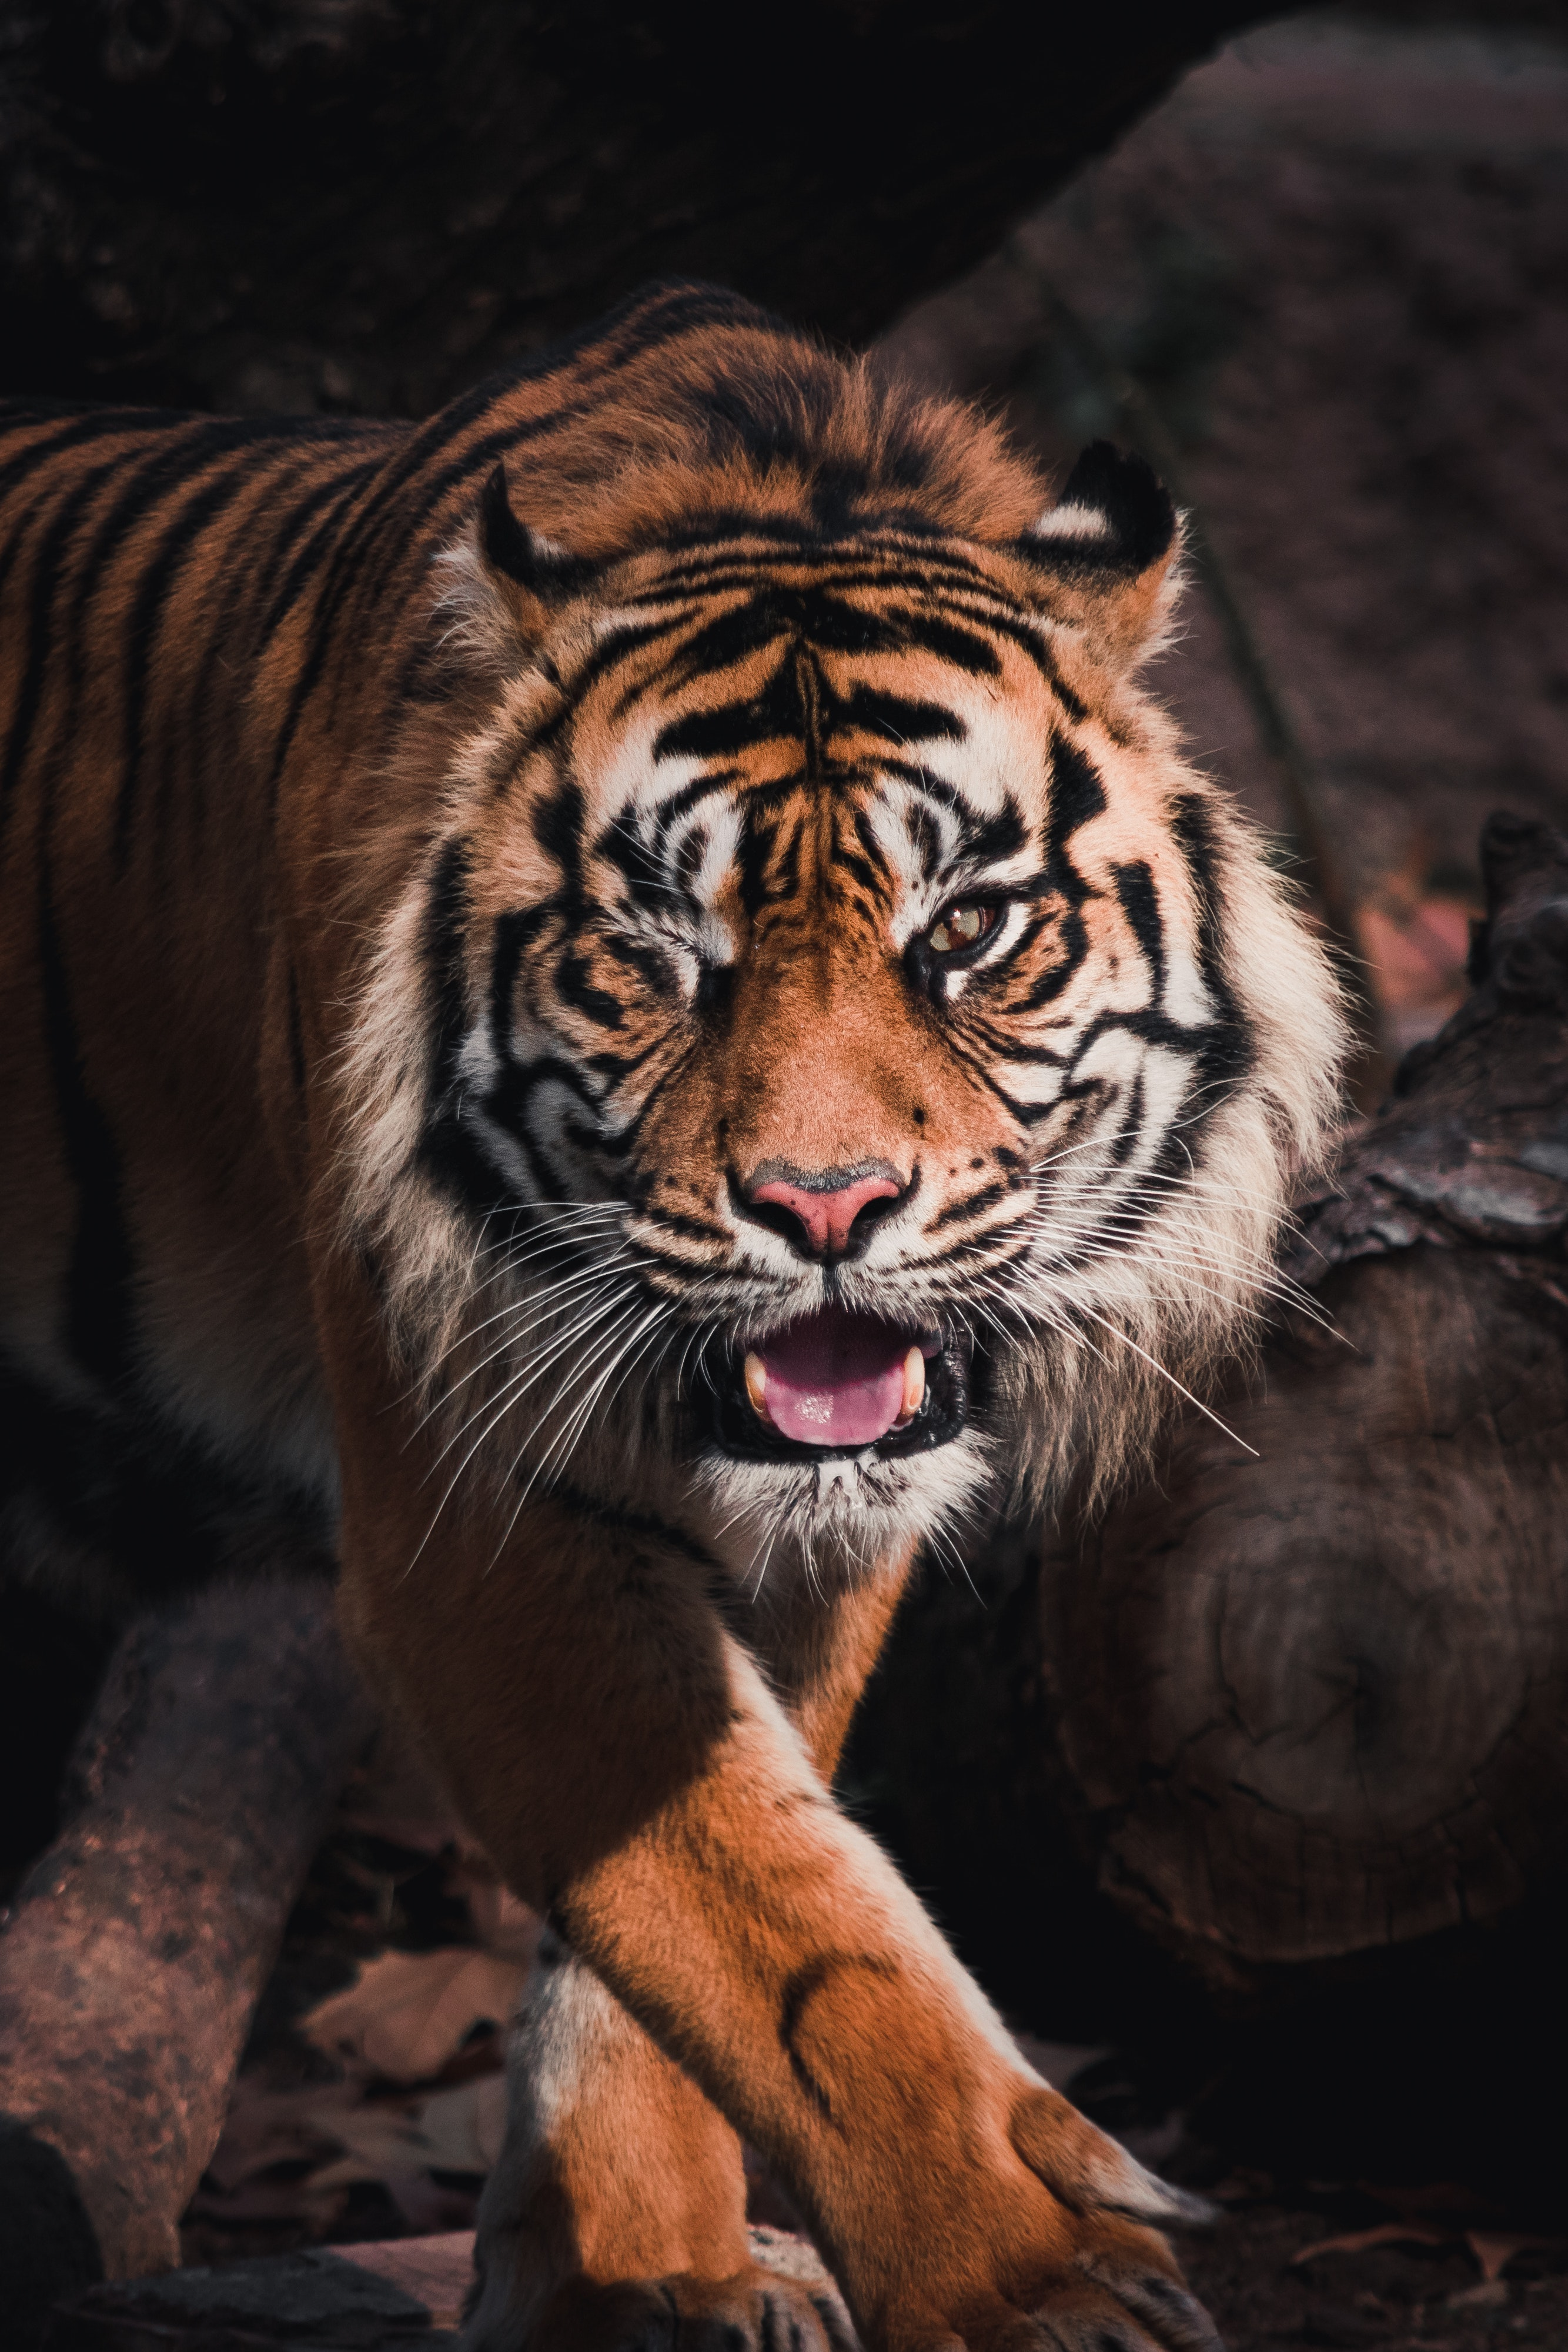tiger: (56, 212, 1391, 2256)
